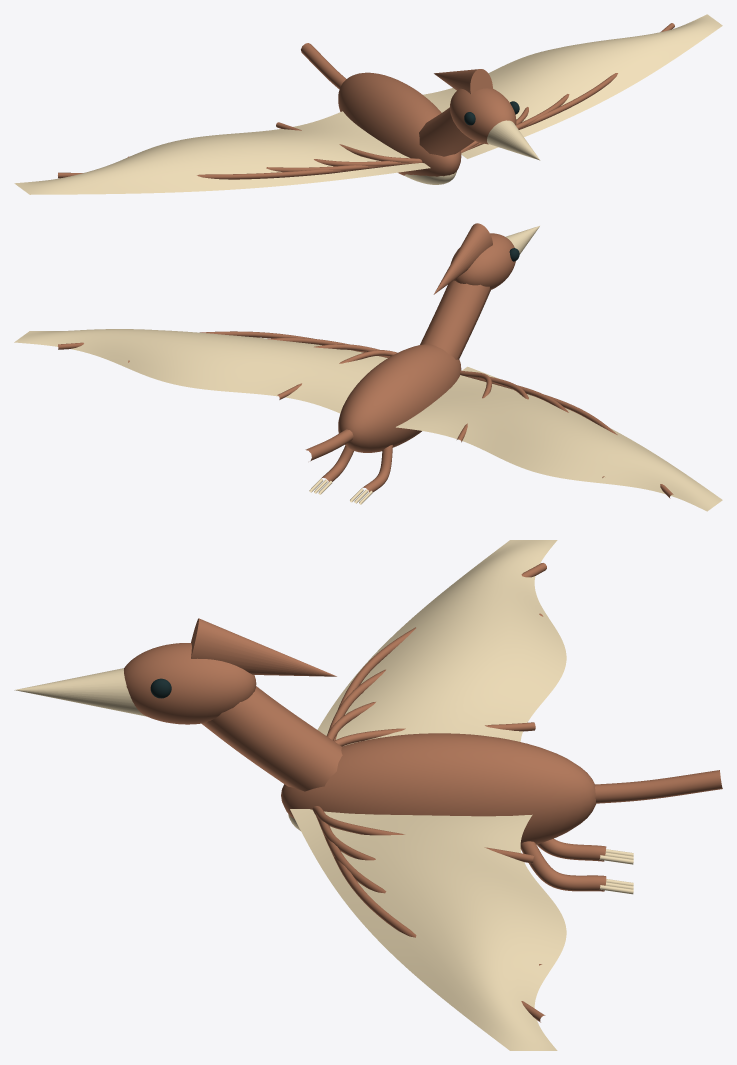
File: pterosaur.glb
The picture shows the model from 3 angles, top to bottom: view 1: azimuth 30°, elevation 25°; view 2: azimuth 150°, elevation 25°; view 3: azimuth 270°, elevation 25°; orthographic projection. The views are drawn at different scales.
Parts seen in each view (by area): view 1: Membrane_-1, Membrane_1, Body, Head, Neck, LongBeak, HeadCrest, WingRib_-1_0.88, Tail, WingRib_1_0.88, WingRib_-1_0.22, WingRib_-1_0.67 (+2 smaller); view 2: Membrane_-1, Membrane_1, Body, Neck, Head, HeadCrest, WingRib_1_0.88, Tail, Leg_-1, WingRib_-1_0.88; view 3: Membrane_1, Membrane_-1, Body, Neck, Head, HeadCrest, LongBeak, Tail, Leg_1, WingRib_1_0.88, Leg_-1, WingRib_1_0.22 (+2 smaller).
Boxes of the visible parts, x1=… form: Membrane_-1: x1=14, y1=111, x2=430, y2=194; Membrane_1: x1=423, y1=14, x2=722, y2=158; Body: x1=338, y1=72, x2=461, y2=176; Head: x1=450, y1=88, x2=516, y2=144; Neck: x1=419, y1=107, x2=474, y2=156; LongBeak: x1=487, y1=120, x2=540, y2=160; HeadCrest: x1=434, y1=69, x2=492, y2=94; WingRib_-1_0.88: x1=58, y1=162, x2=422, y2=179; Tail: x1=301, y1=43, x2=346, y2=89; WingRib_1_0.88: x1=461, y1=23, x2=674, y2=153; WingRib_-1_0.22: x1=276, y1=122, x2=422, y2=162; WingRib_-1_0.67: x1=127, y1=156, x2=420, y2=171; Membrane_-1: x1=396, y1=366, x2=722, y2=511; Membrane_1: x1=14, y1=329, x2=387, y2=413; Body: x1=338, y1=344, x2=461, y2=452; Neck: x1=420, y1=280, x2=490, y2=359; Head: x1=450, y1=233, x2=515, y2=289; HeadCrest: x1=433, y1=223, x2=492, y2=294; WingRib_1_0.88: x1=58, y1=331, x2=388, y2=357; Tail: x1=305, y1=429, x2=353, y2=461; Leg_-1: x1=362, y1=445, x2=392, y2=492; WingRib_-1_0.88: x1=465, y1=376, x2=673, y2=498; Membrane_1: x1=290, y1=809, x2=566, y2=1050; Membrane_-1: x1=317, y1=540, x2=566, y2=745; Body: x1=281, y1=733, x2=596, y2=844; Neck: x1=202, y1=686, x2=342, y2=791; Head: x1=124, y1=643, x2=256, y2=724; HeadCrest: x1=191, y1=618, x2=336, y2=676; LongBeak: x1=14, y1=668, x2=146, y2=716; Tail: x1=595, y1=770, x2=722, y2=803; Leg_1: x1=520, y1=841, x2=606, y2=891; WingRib_1_0.88: x1=312, y1=809, x2=545, y2=1022; Leg_-1: x1=537, y1=838, x2=606, y2=861; WingRib_1_0.22: x1=312, y1=806, x2=534, y2=863.
Bounding box in the file's own units: 6.86 × 1.61 × 4.02.
